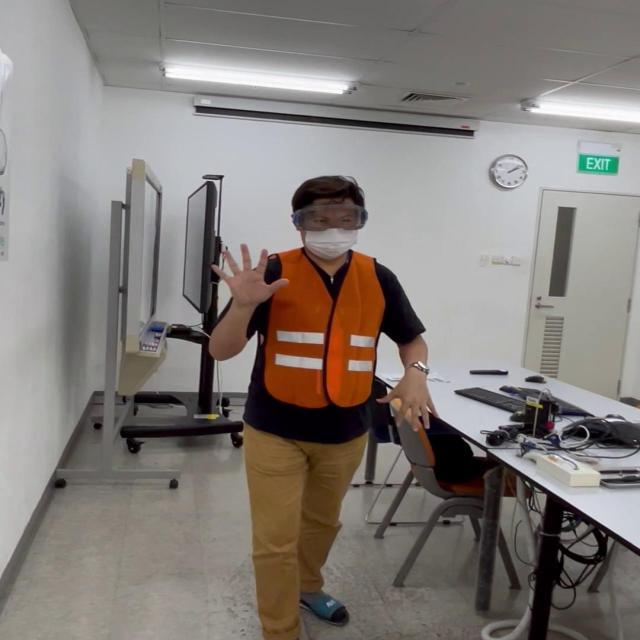bare_hand: (207, 240, 289, 307), (376, 369, 440, 432)
